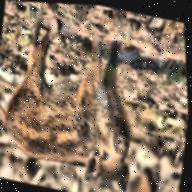boar: (0, 34, 155, 192)
